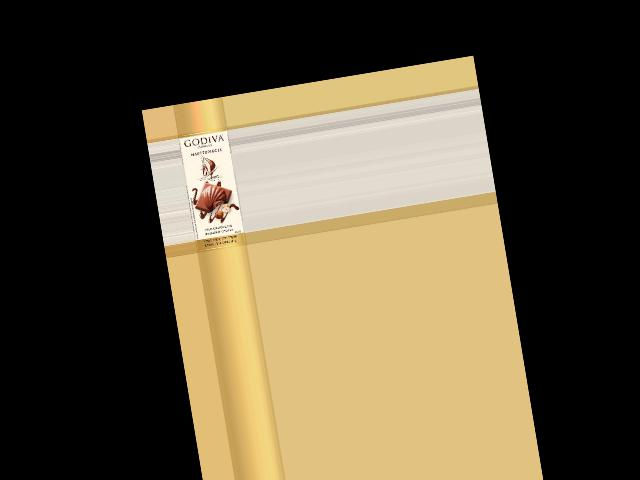chocolate: (178, 127, 246, 252)
